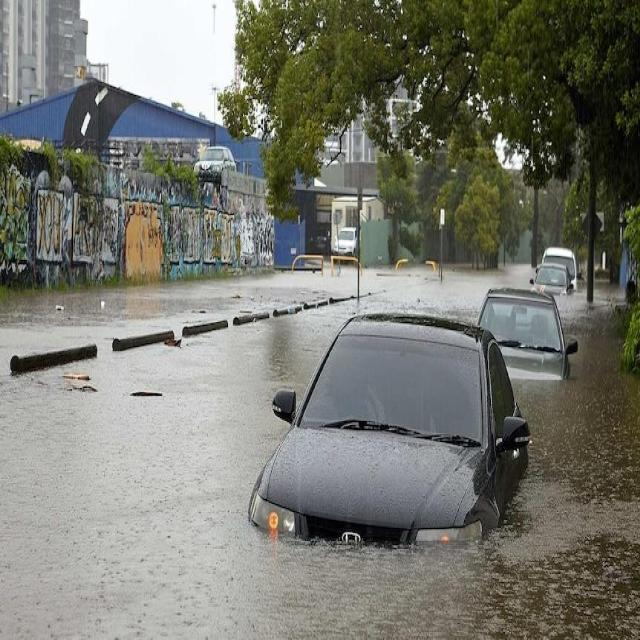water: (2, 261, 638, 637)
